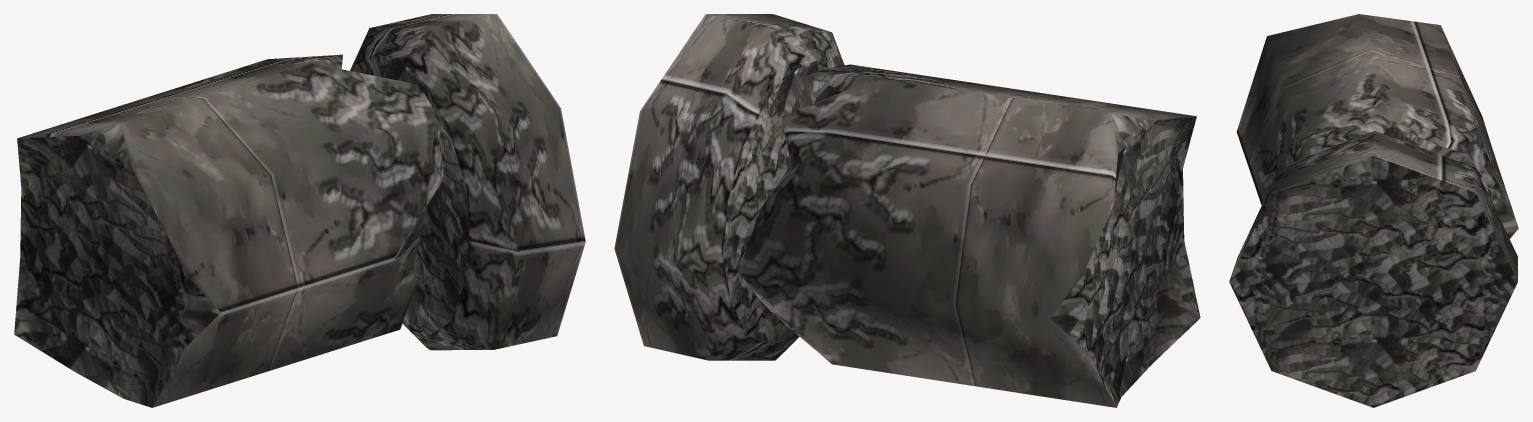
The model's file is INST_SM_COLUMN_BROKEN_PIECED.fbx.
3 renders of one model, left to right at view 1: azimuth 30°, elevation 25°; view 2: azimuth 150°, elevation 25°; view 3: azimuth 270°, elevation 25°, orthographic. The views are drawn at different scales.
Parts seen in each view (by area): view 1: INST_SM_COLUMN_BROKEN_PIECED; view 2: INST_SM_COLUMN_BROKEN_PIECED; view 3: INST_SM_COLUMN_BROKEN_PIECED.
Part boxes in pixels (x1=…): INST_SM_COLUMN_BROKEN_PIECED: x1=14, y1=14, x2=585, y2=407; INST_SM_COLUMN_BROKEN_PIECED: x1=614, y1=14, x2=1200, y2=407; INST_SM_COLUMN_BROKEN_PIECED: x1=1229, y1=14, x2=1518, y2=407.
Size of the model in its own units: 39242 by 27373 by 28169.
Materials: 3 (3 with a texture image).
